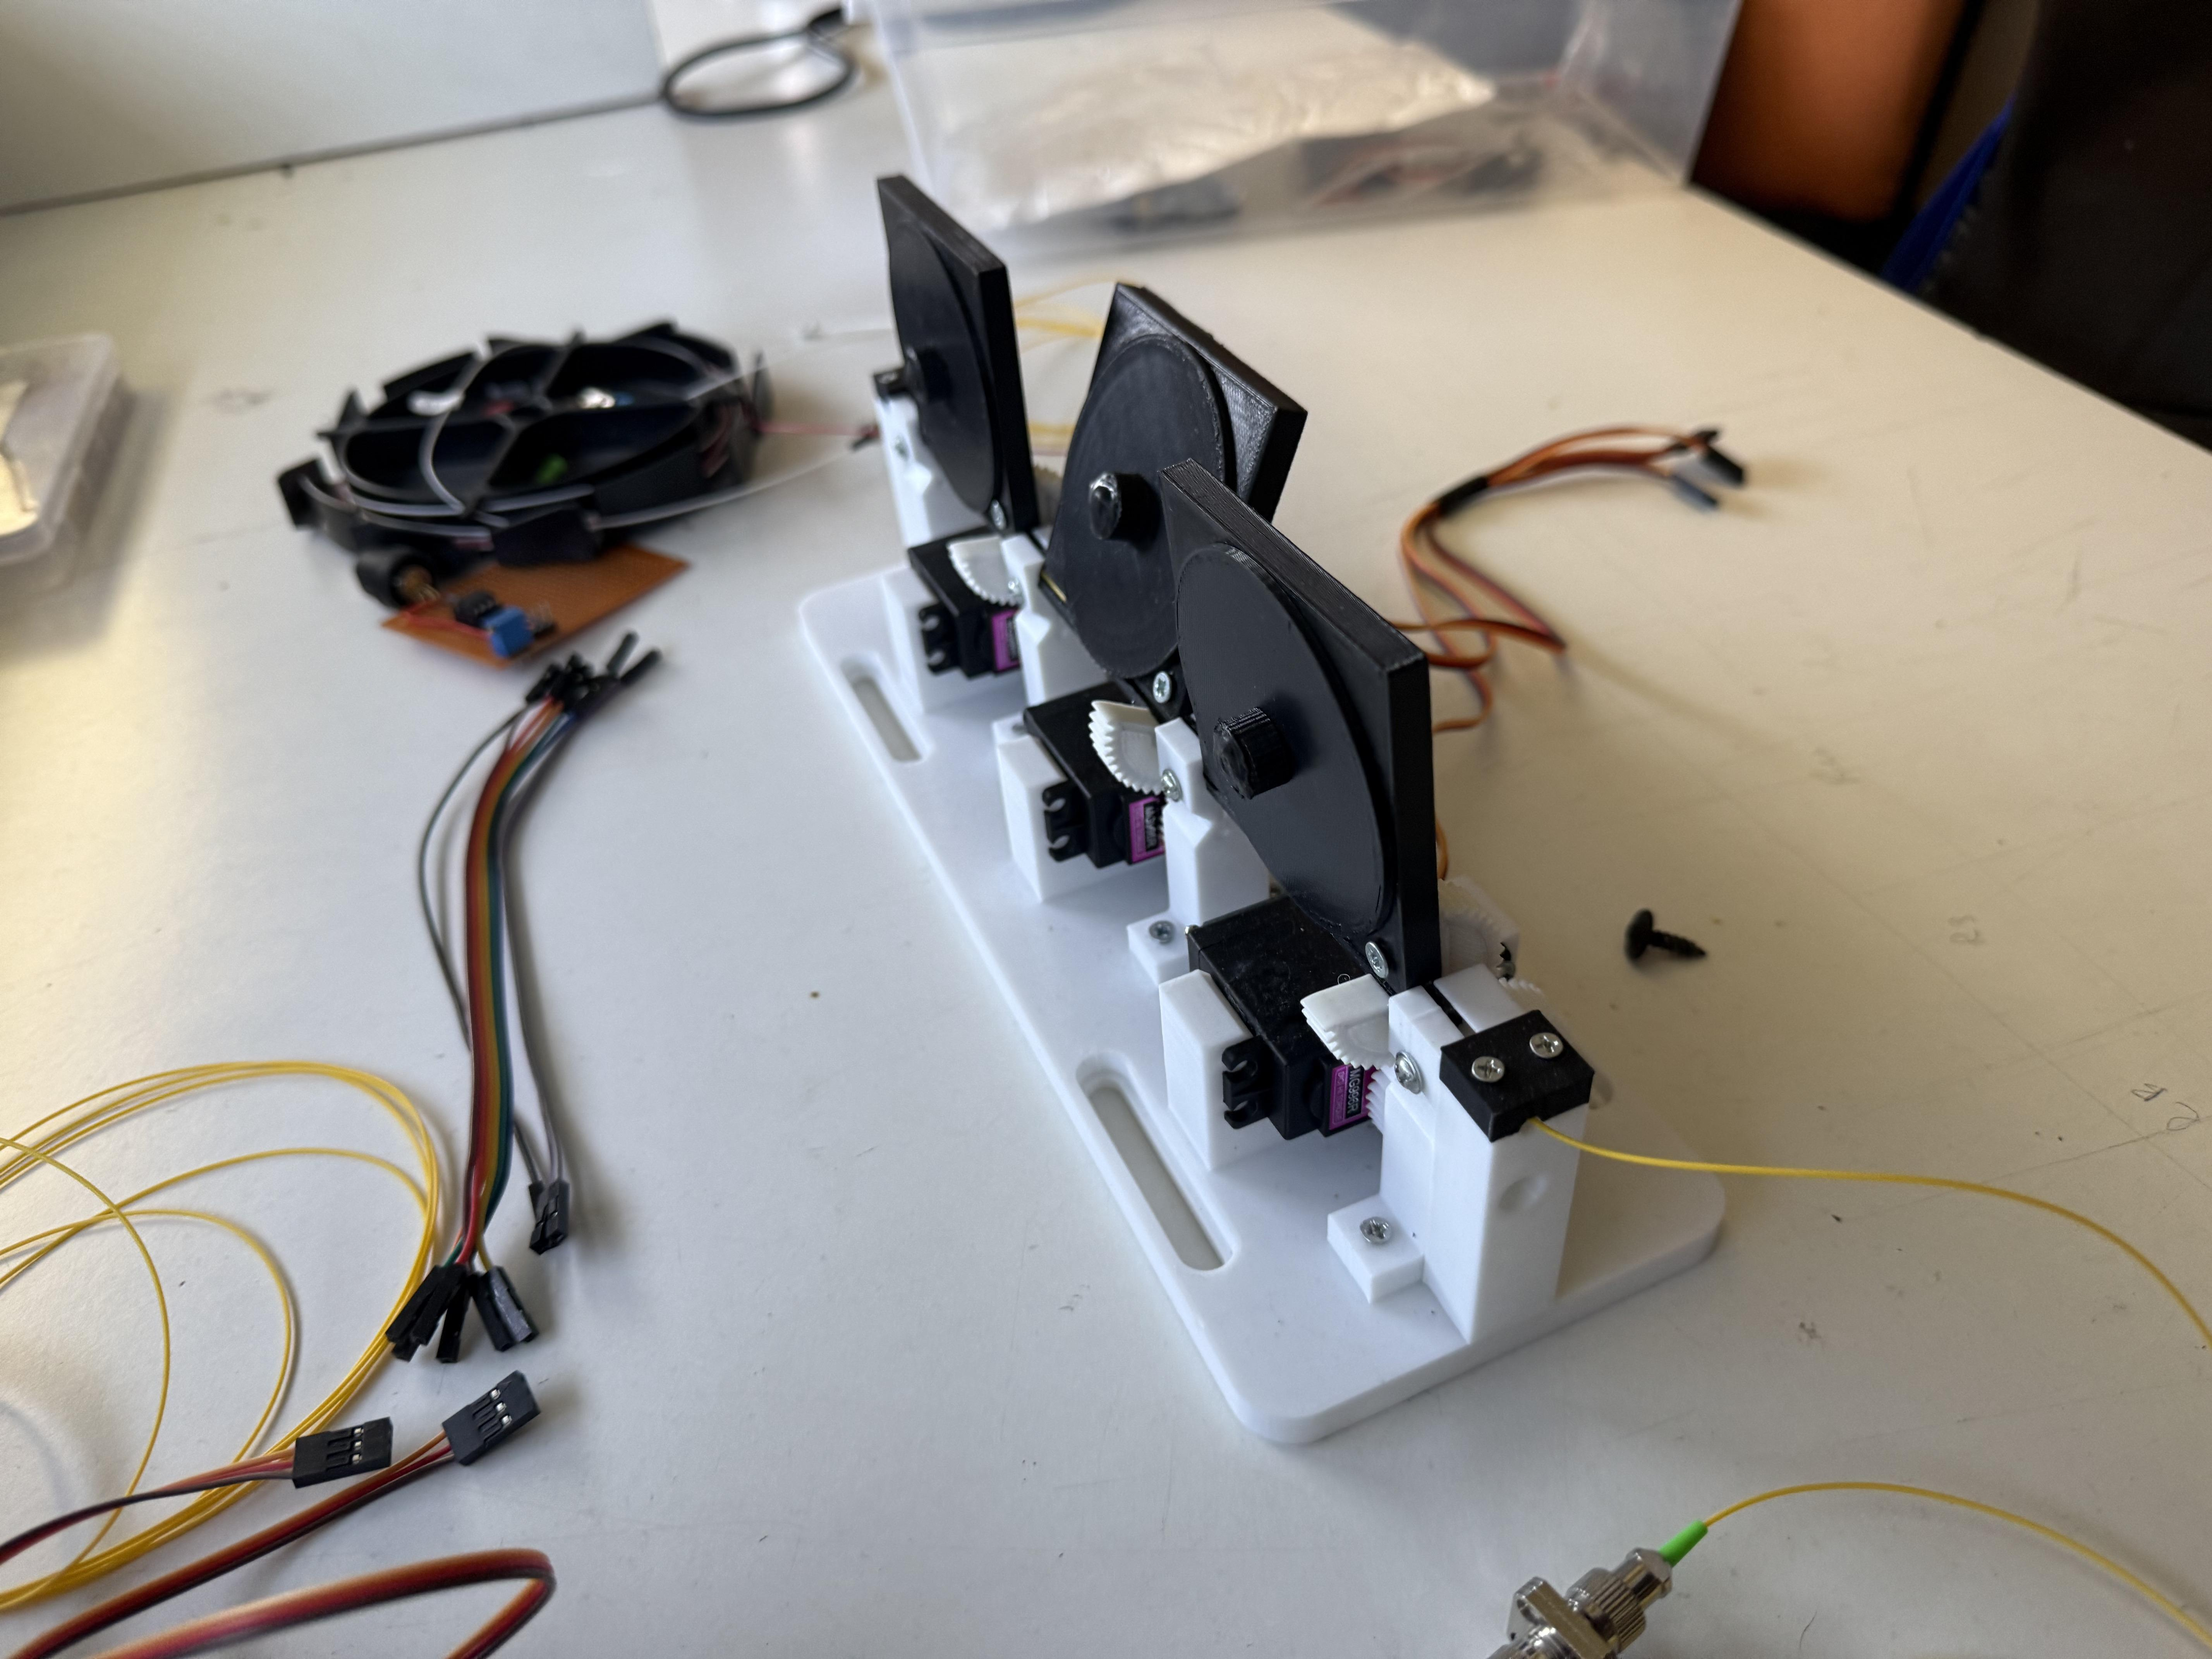paddle_polarization_controller: (778, 174, 1713, 1388)
